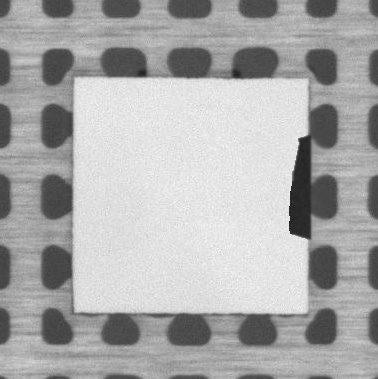DIE_BROKEN: (286, 132, 313, 244)
